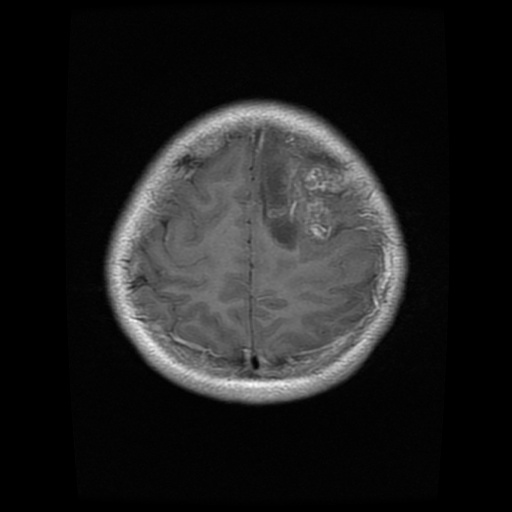glioma: (262, 128, 360, 250)
